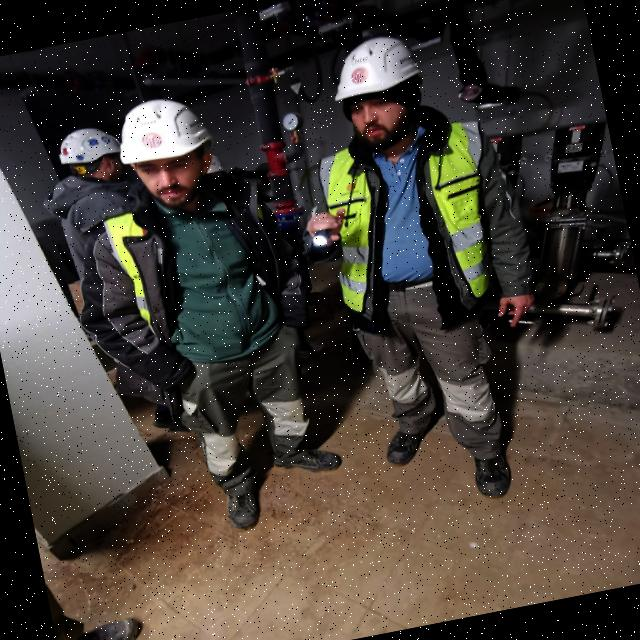Helmet: (110, 90, 224, 181), (323, 31, 433, 117), (52, 124, 128, 178)
Jacket: (95, 158, 298, 373), (325, 94, 493, 329)
